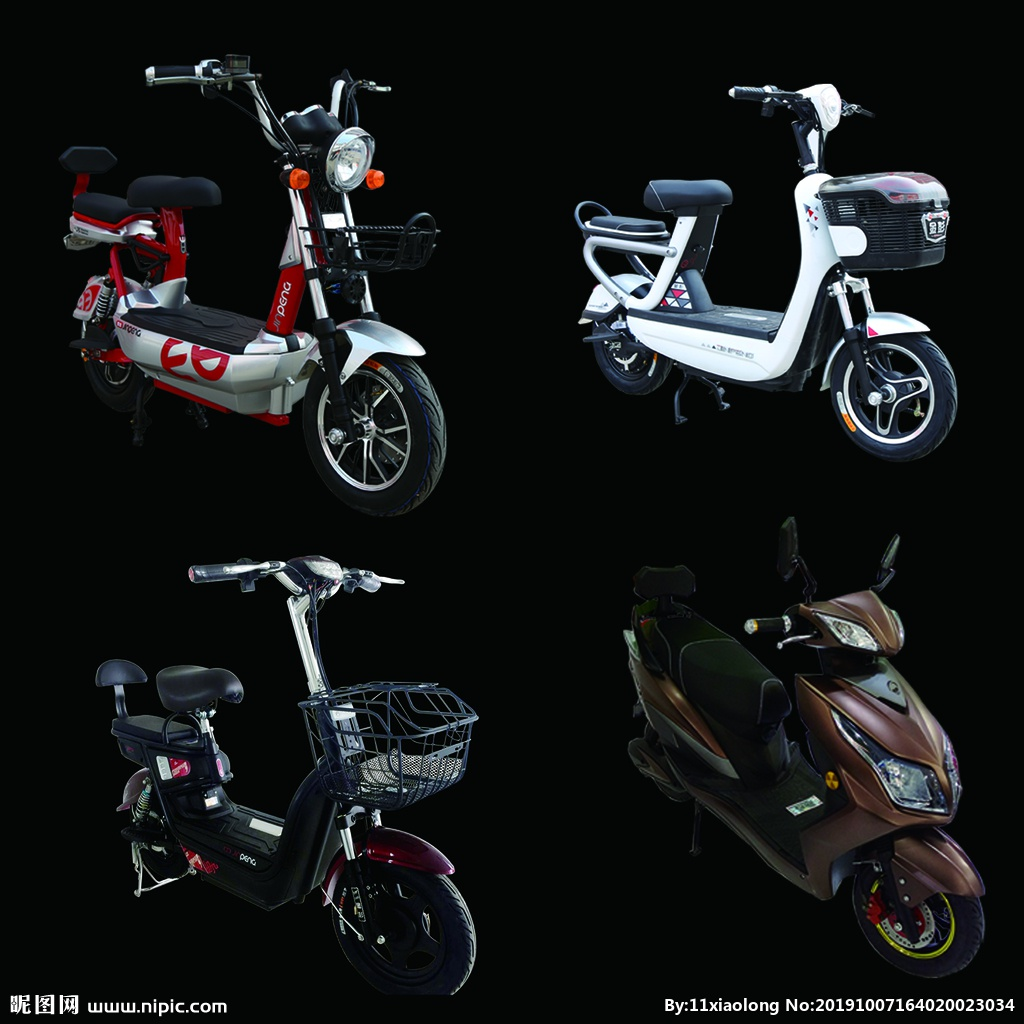non-vehicle: (53, 69, 448, 520), (94, 558, 491, 1006), (615, 532, 981, 964), (572, 80, 970, 460)
